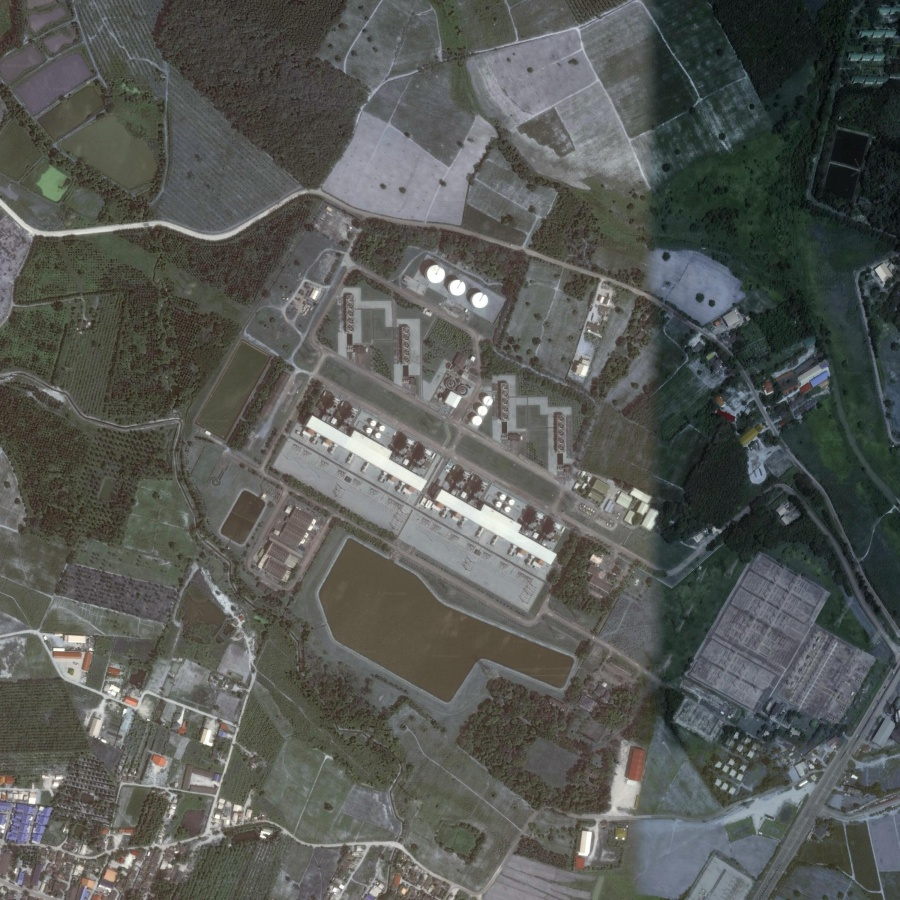PowerPlant: (223, 250, 677, 709)
